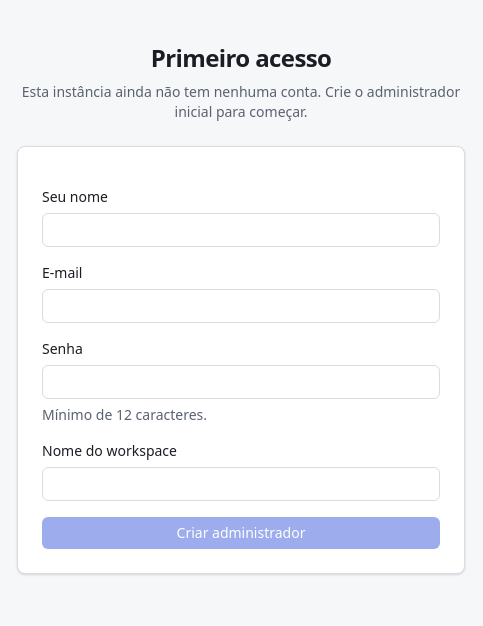
FirstRunPage (BOOT-12..16) › reports that the instance stopped being empty and tells the caller (BOOT-16)
Type "Admin" into the field labelled "Seu nome" at [241, 230], box [42,213,440,247]
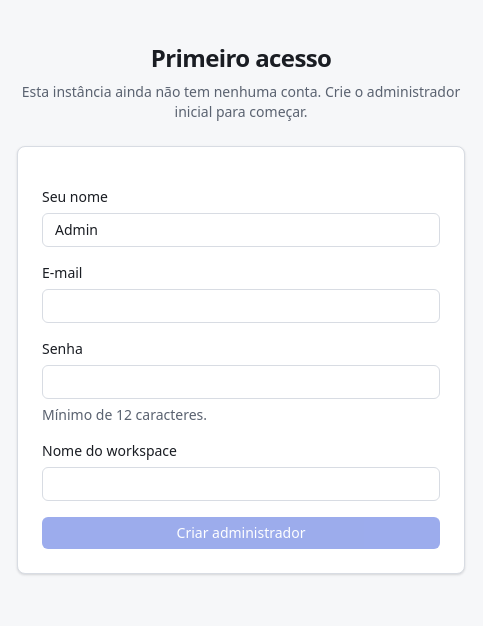
Type "admin@example.com" into the field labelled "E-mail" at [241, 306], box [42,289,440,323]
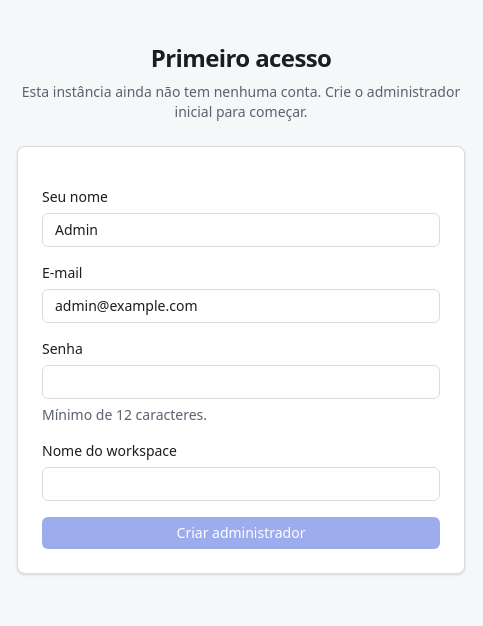
Type "correct horse battery staple" into the password field labelled "Senha" at [241, 382], box [42,365,440,399]
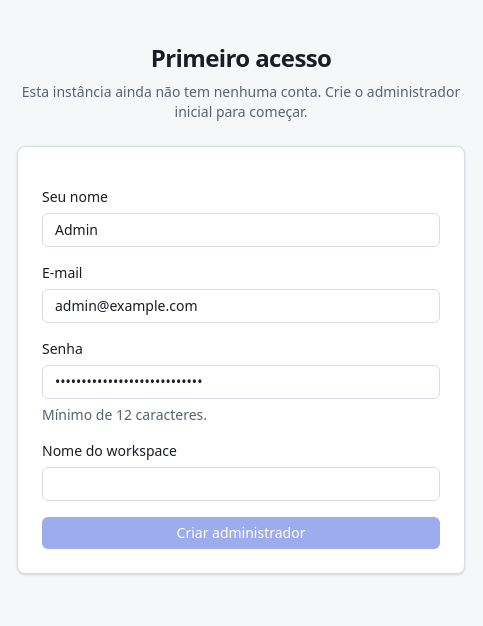
Type "Arquitetura" into the field labelled "Nome do workspace" at [241, 484], box [42,467,440,501]
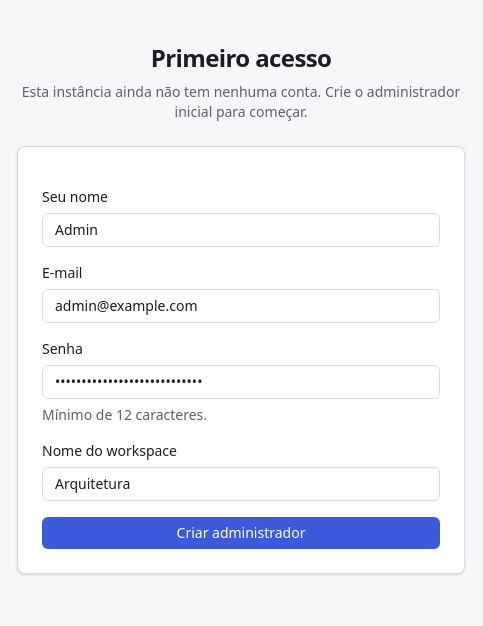
Click the button "Criar administrador" at [241, 533], box [42,517,440,549]
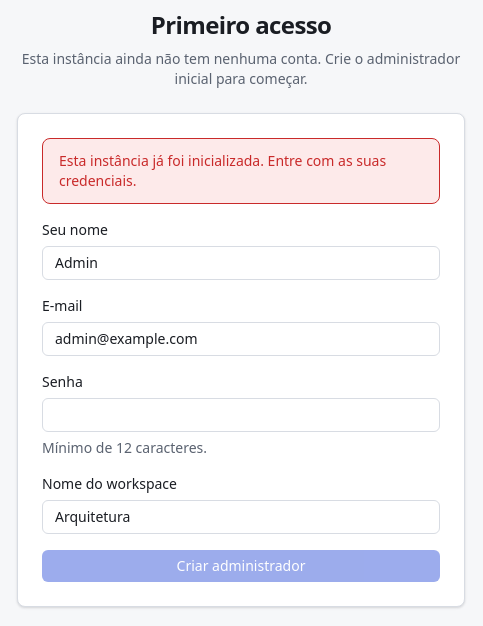
Expected: the text "Esta instância já foi inicializada. Entre com as suas credenciais." is shown, [42,138,440,204]
